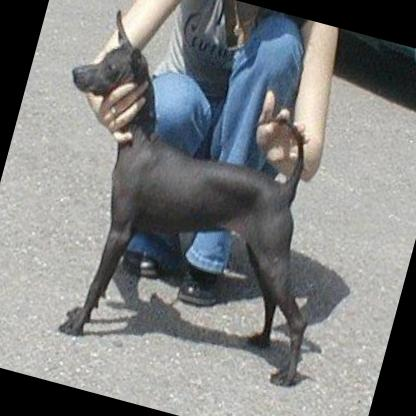Mexican_hairless: (1, 0, 376, 396)
